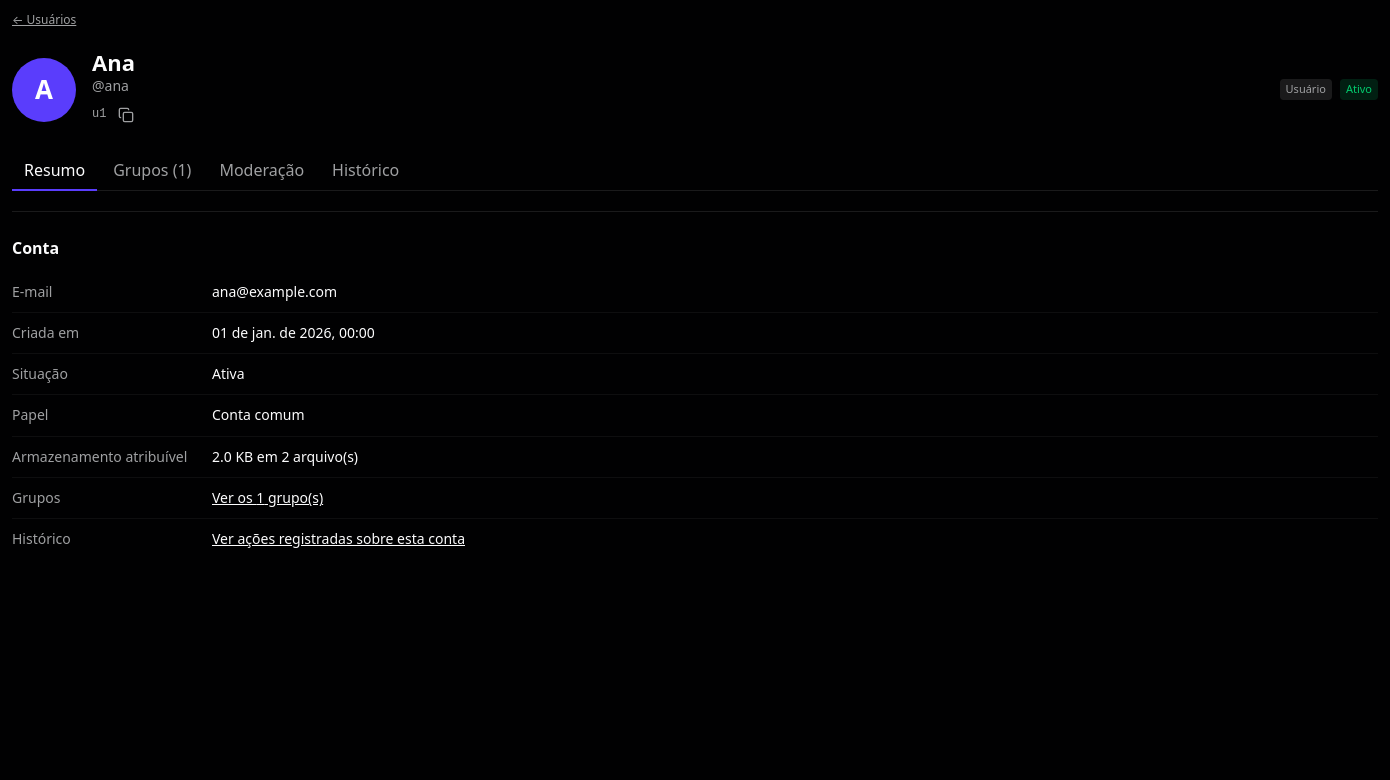
Test case: UserDetailPage › only the open tab mounts: moderation actions are not on the overview
The image size is (1390, 780).
Expected: the text "ana@example.com" is shown, top-left (212, 282), bottom-right (337, 301)
Expected: the button "Suspender" is not shown
Step 1. Click the link "Moderação" → click(262, 170), box top-left (219, 159), bottom-right (304, 181)
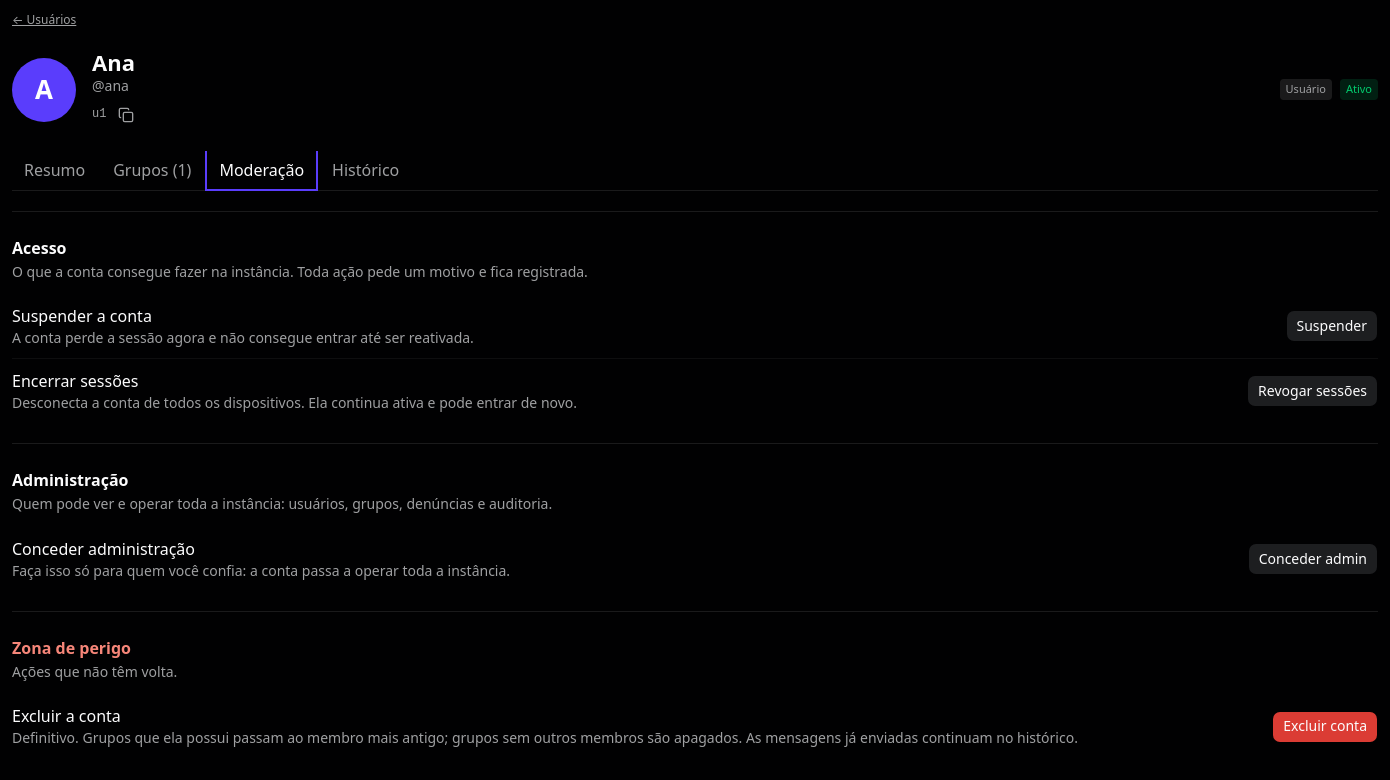
Now the button "Suspender" is shown, box top-left (1286, 310), bottom-right (1378, 342)
